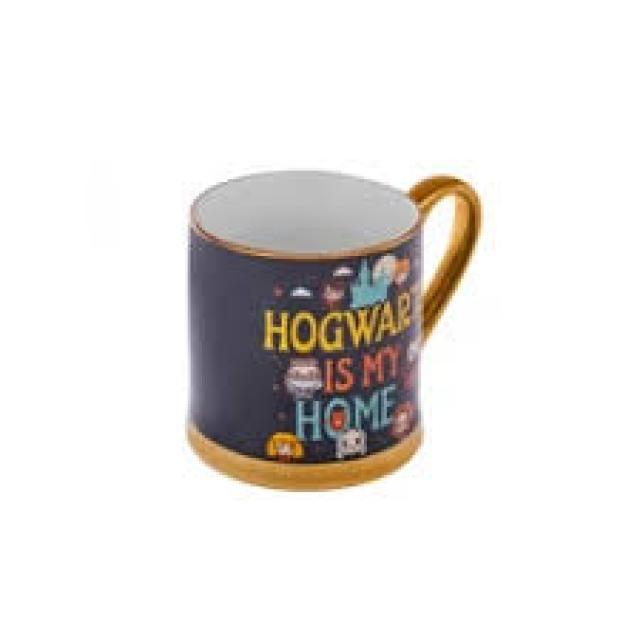taza: (186, 168, 484, 495)
